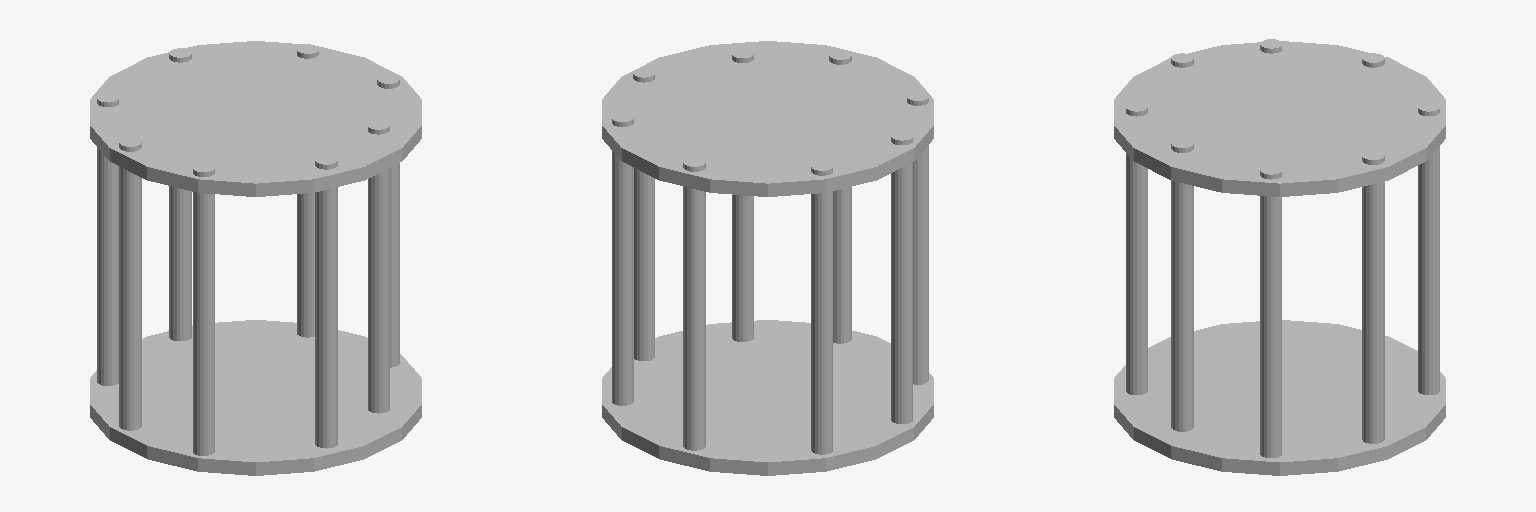
File: chamber.obj
3 views of the same model, side by side, from view 1: azimuth 30°, elevation 25°; view 2: azimuth 150°, elevation 25°; view 3: azimuth 270°, elevation 25° (orthographic).
Visible parts, largest first — view 1: Cylinder010, Cylinder003, Cylinder002; view 2: Cylinder010, Cylinder003, Cylinder002; view 3: Cylinder010, Cylinder003.
Part boxes in pixels (x1,y1,x2,y2): Cylinder010: (90, 41, 421, 475); Cylinder003: (97, 44, 399, 455); Cylinder002: (119, 137, 141, 430); Cylinder010: (602, 41, 933, 475); Cylinder003: (612, 49, 928, 454); Cylinder002: (891, 131, 912, 423); Cylinder010: (1114, 41, 1445, 475); Cylinder003: (1126, 53, 1439, 457).
Size of the model in its own units: 10 by 9.71 by 9.85.